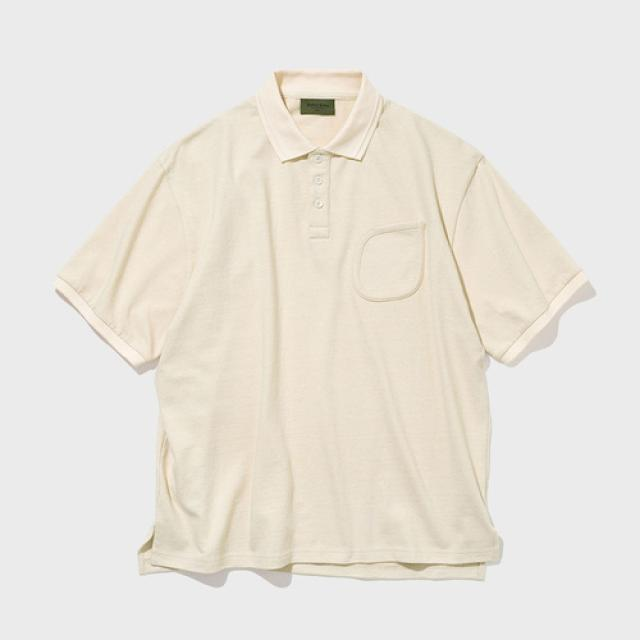Blouse_deep: (46, 60, 590, 600)
